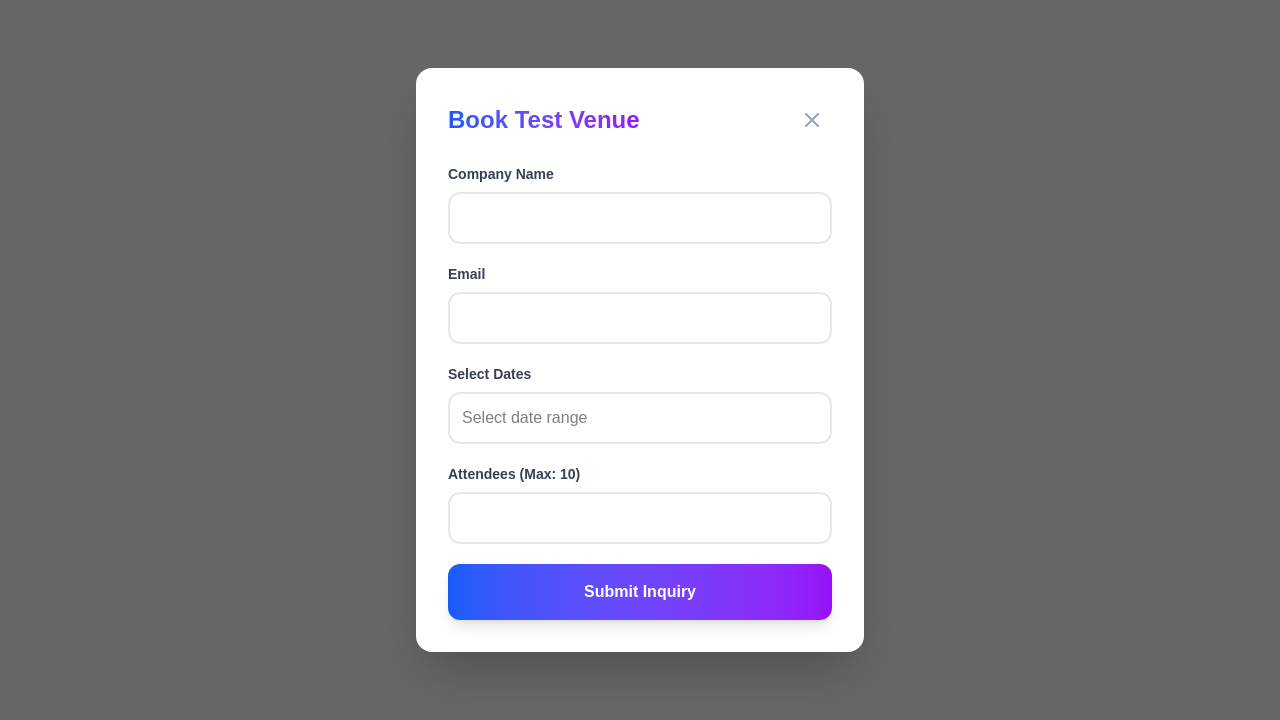
Scenario: BookingForm › validates date range is selected
Type "Test Co" into the field labelled "Company Name" at (640, 218), box [448,192,832,244]
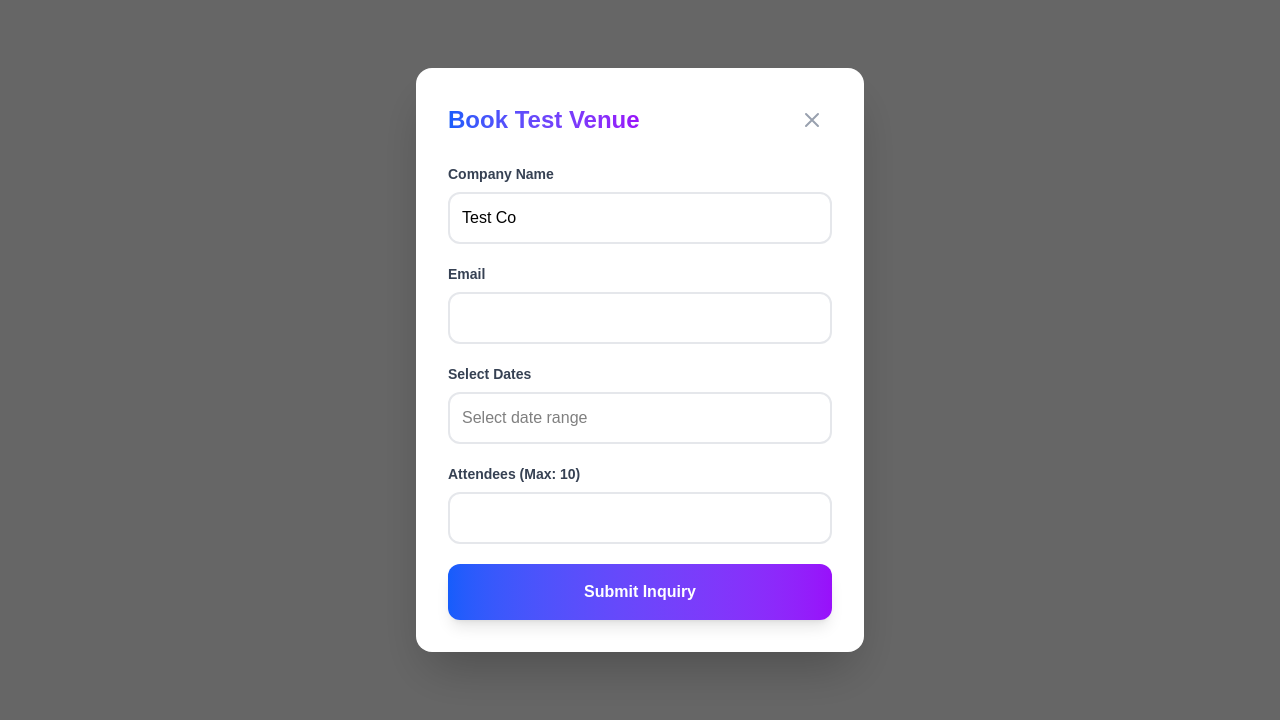
Type "test@example.com" into the field labelled "Email" at (640, 318), box [448,292,832,344]
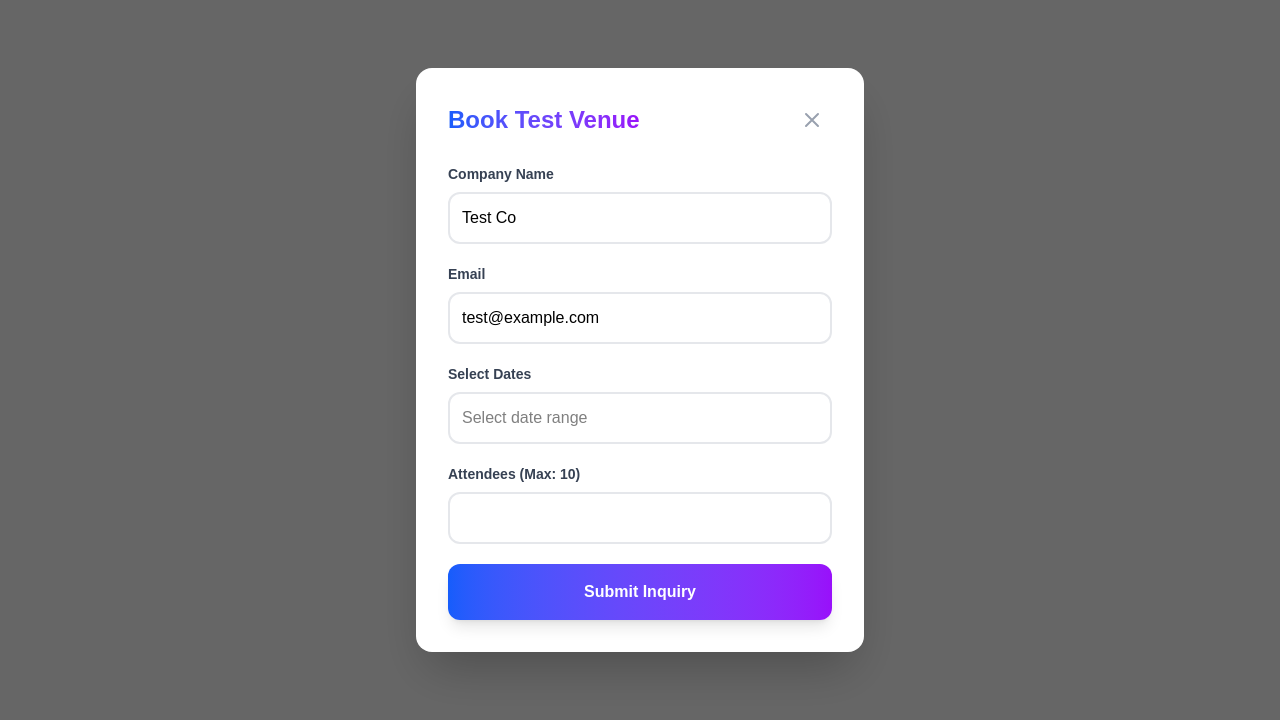
Note: Do not select date
Type "5" into the number field labelled "Attendees (Max: 10)" at (640, 518), box [448,492,832,544]
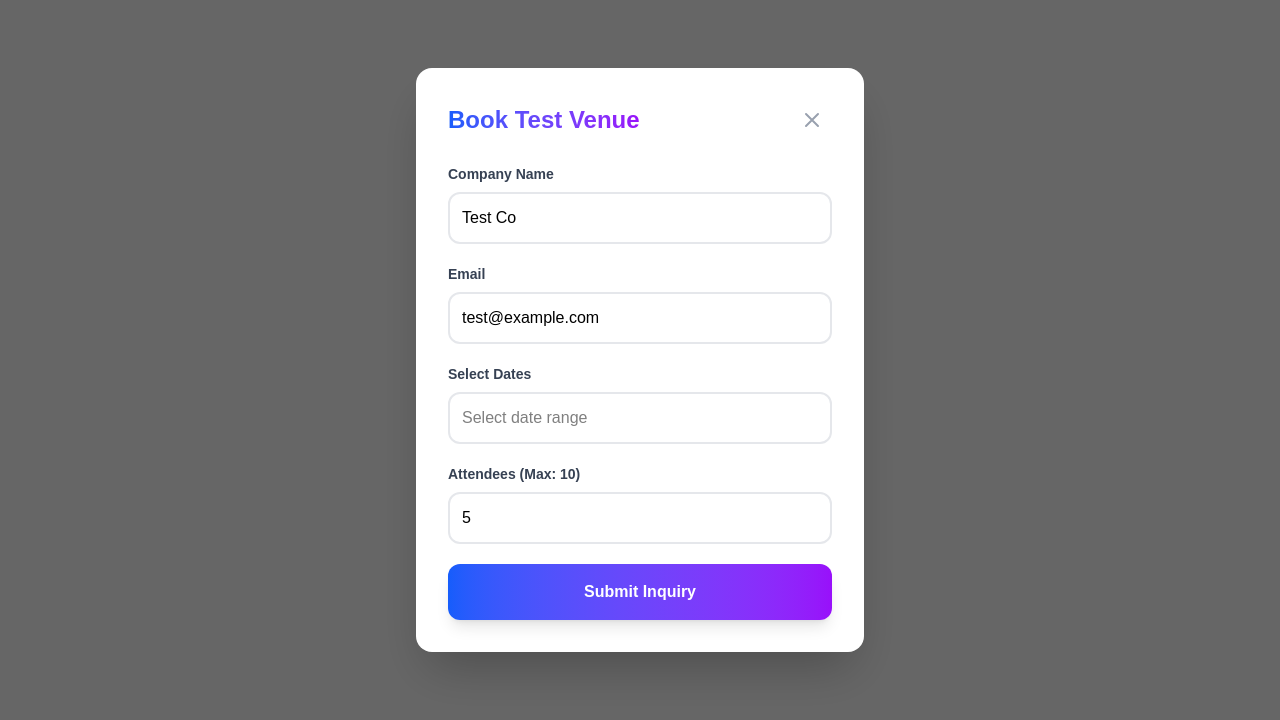
Click the button "Submit Inquiry" at (640, 592), box [448,564,832,620]
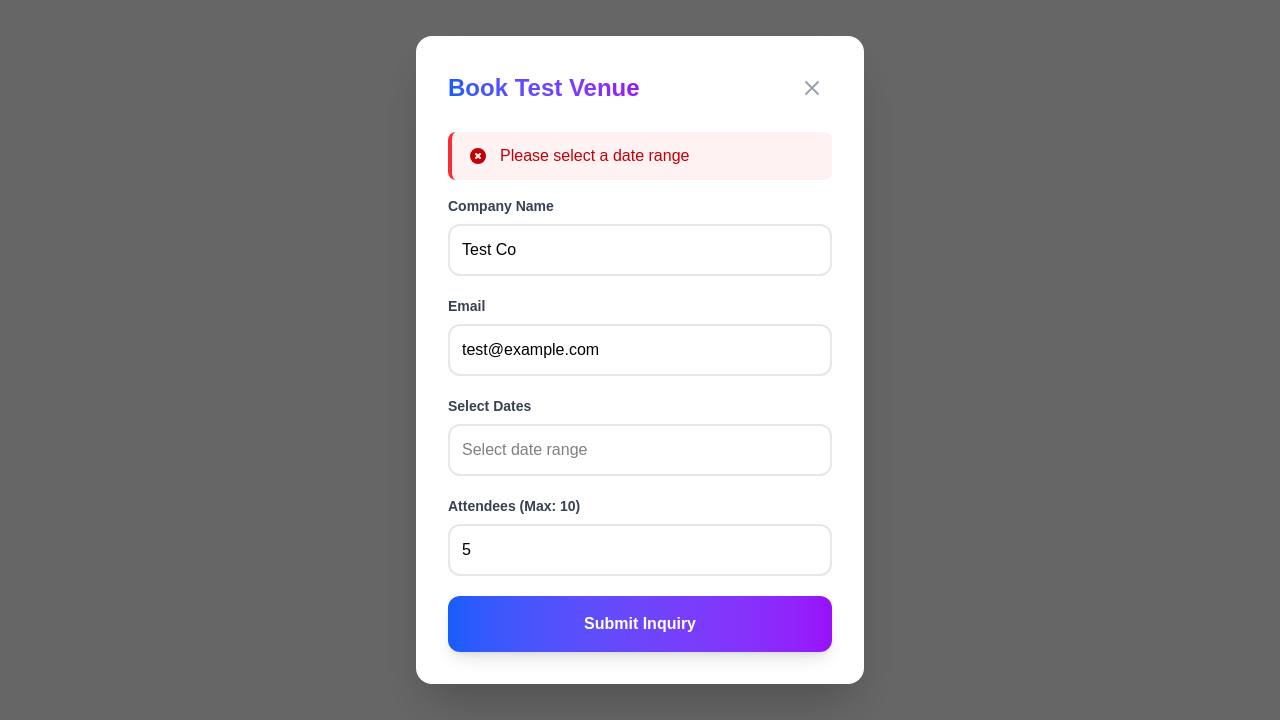
Expected: the text "Please select a date range" is shown, [500,144,690,168]
